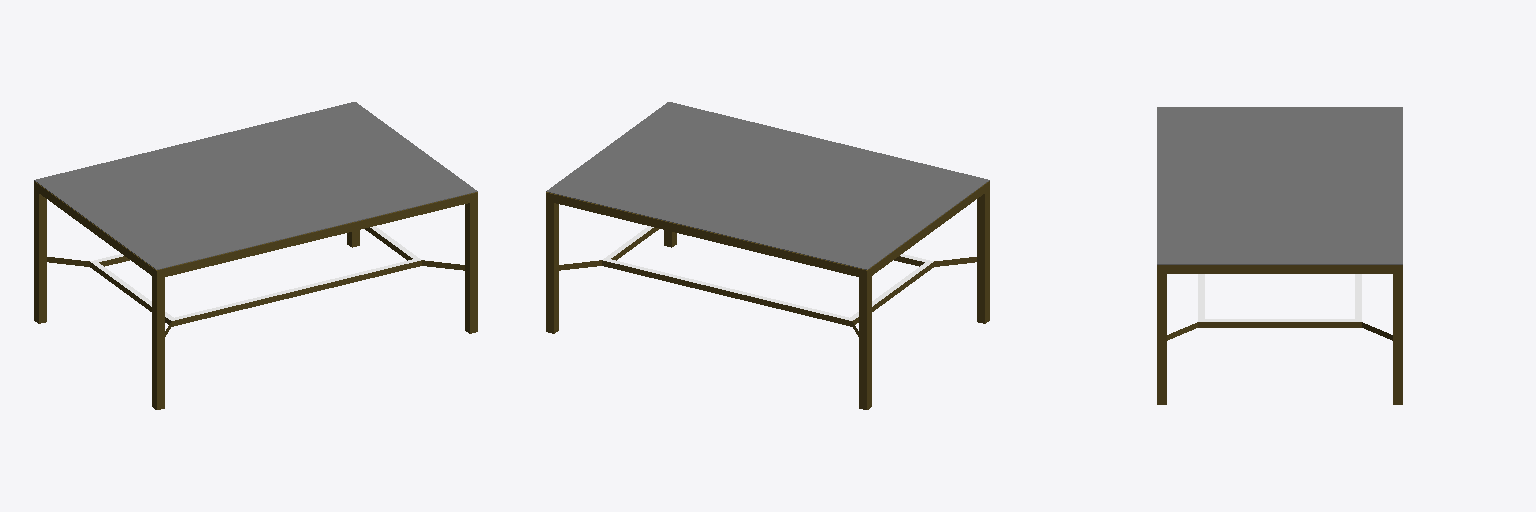
The picture shows the model from 3 angles: view 1: azimuth 30°, elevation 25°; view 2: azimuth 150°, elevation 25°; view 3: azimuth 270°, elevation 25°; orthographic projection.
Visible parts, largest first — view 1: Mesh2 Granas1 Model, Mesh1 Granas1 Model; view 2: Mesh2 Granas1 Model, Mesh1 Granas1 Model; view 3: Mesh2 Granas1 Model, Mesh1 Granas1 Model.
Boxes of the visible parts, x1,y1,x2,y2 form: Mesh2 Granas1 Model: [34, 102, 477, 269]; Mesh1 Granas1 Model: [34, 181, 477, 409]; Mesh2 Granas1 Model: [546, 102, 989, 269]; Mesh1 Granas1 Model: [546, 181, 989, 409]; Mesh2 Granas1 Model: [1157, 107, 1402, 264]; Mesh1 Granas1 Model: [1157, 265, 1402, 404].
Bounding box in the file's own units: 0.7876 × 0.3297 × 0.5206.